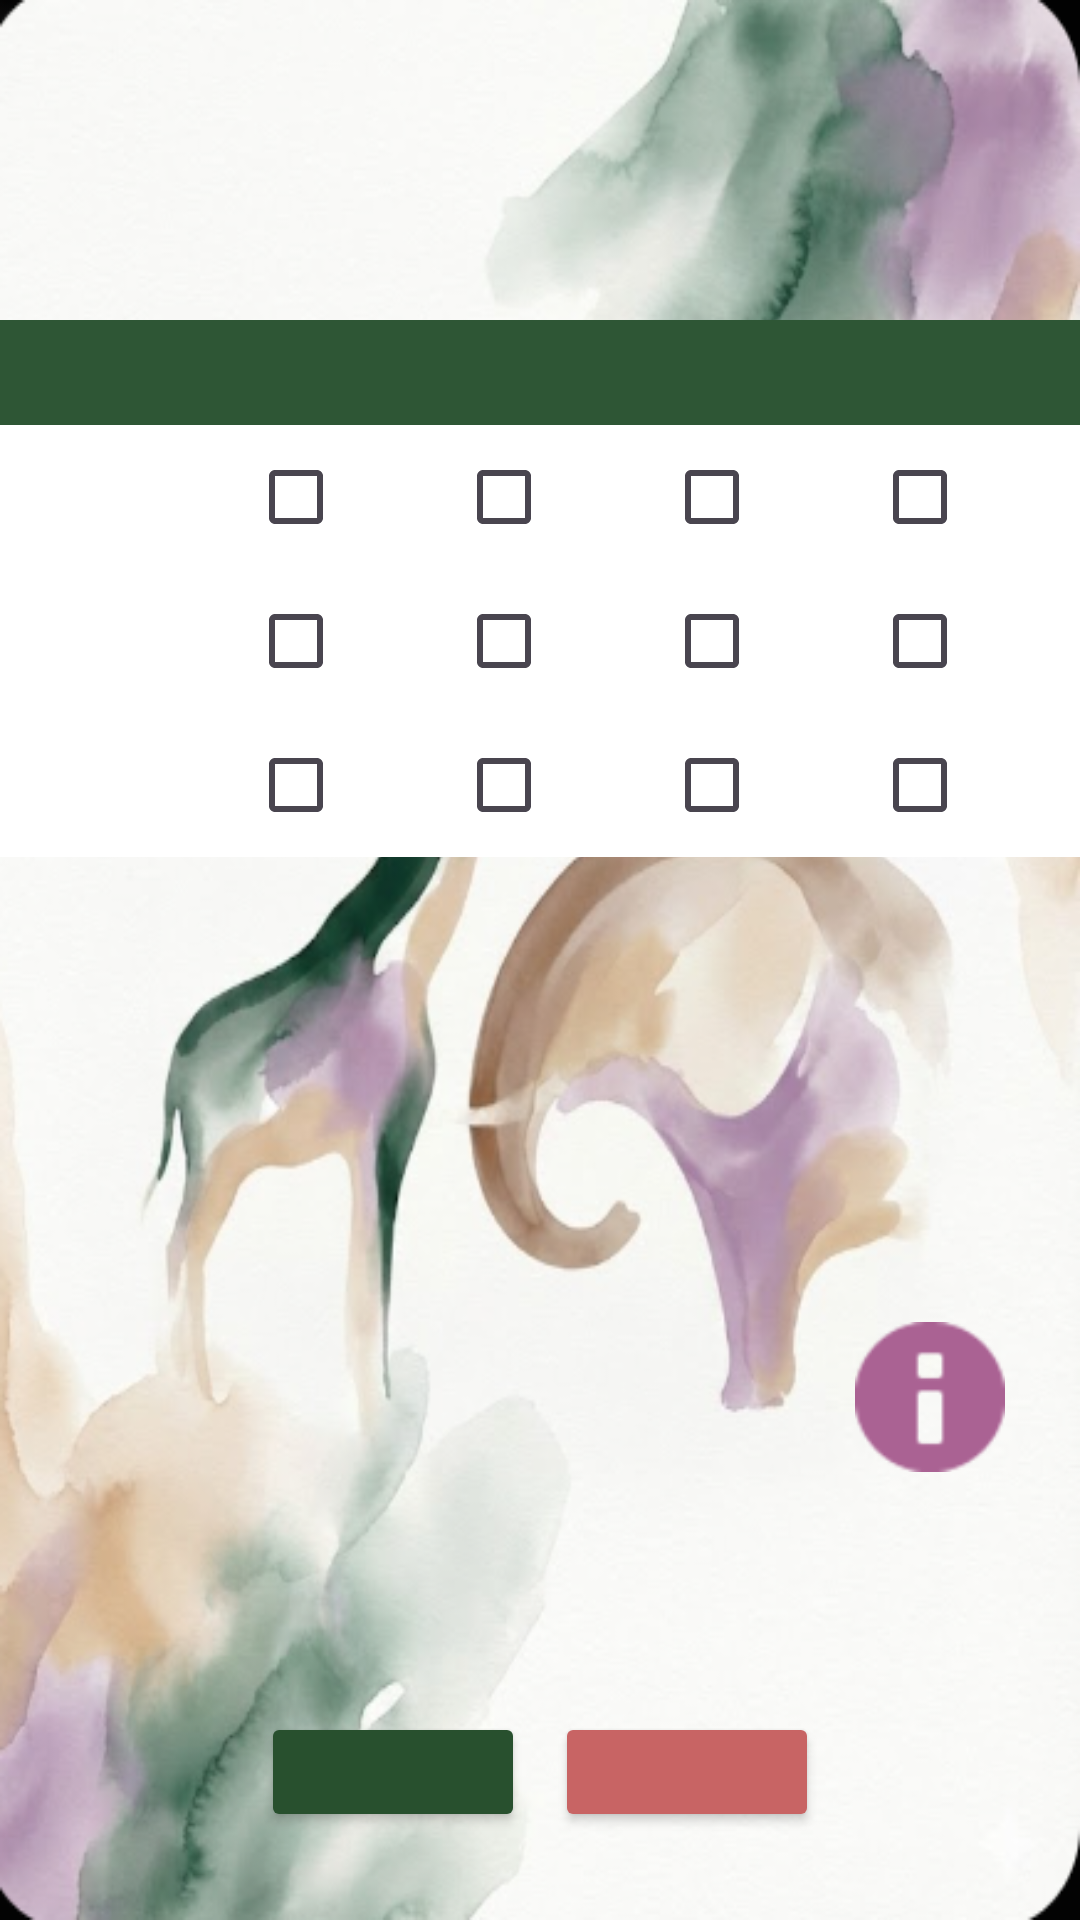

Screen size 1080*1920. Icon name, then its box in pixels as (x1, y1, x2, y2):
info: (855, 1322, 1005, 1472)
